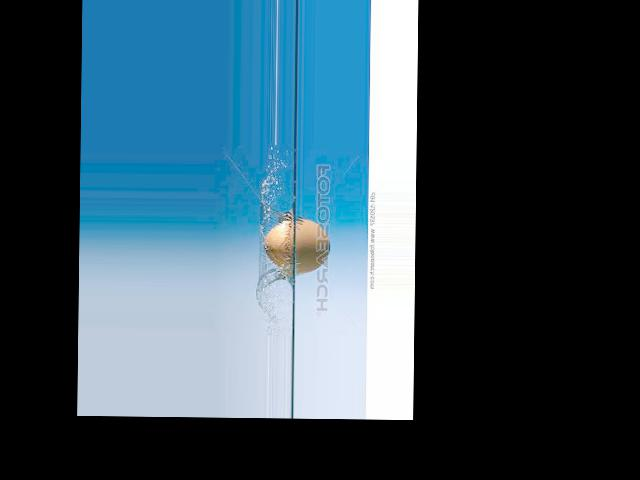egg: (263, 219, 329, 273)
